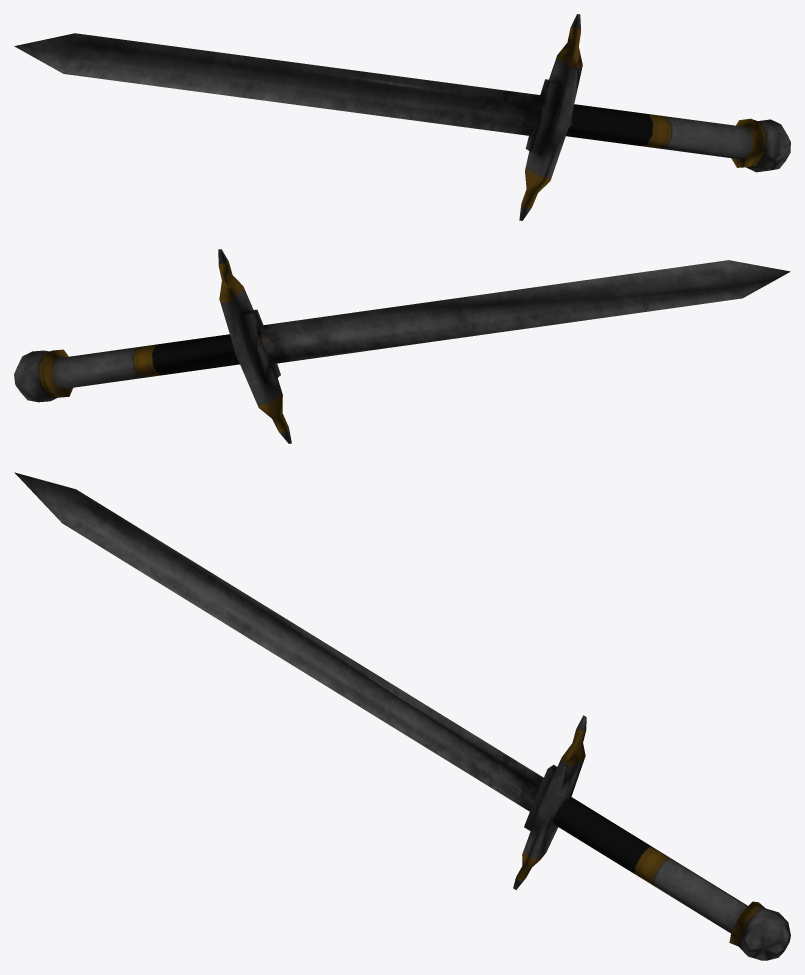
The model's file is sword.dae.
3 views of the same model, one above another, from view 1: azimuth 30°, elevation 25°; view 2: azimuth 150°, elevation 25°; view 3: azimuth 330°, elevation 25° (orthographic).
Parts seen in each view (by area): view 1: Paladin_J_Nordstrom_Sword; view 2: Paladin_J_Nordstrom_Sword; view 3: Paladin_J_Nordstrom_Sword.
Part boxes in pixels (x1,y1,x2,y2): Paladin_J_Nordstrom_Sword: (14, 14, 790, 220); Paladin_J_Nordstrom_Sword: (14, 249, 790, 443); Paladin_J_Nordstrom_Sword: (14, 472, 790, 960).
Bounding box in the file's own units: 2.47 × 0.1537 × 0.9452.
Materials: 1 (1 with a texture image).
